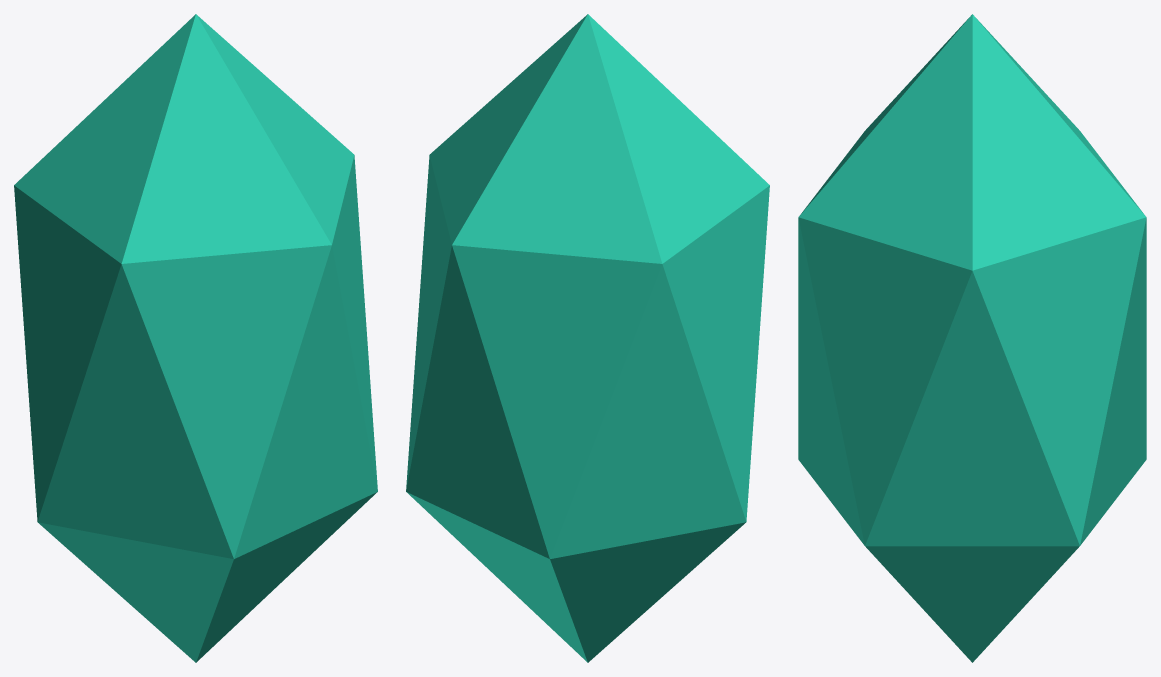
Rendered from mcp-crystal.glb.
3 views of the same model, side by side, from view 1: azimuth 30°, elevation 25°; view 2: azimuth 150°, elevation 25°; view 3: azimuth 270°, elevation 25° (orthographic).
Parts seen in each view (by area): view 1: MCP_Export_Crystal; view 2: MCP_Export_Crystal; view 3: MCP_Export_Crystal.
Boxes of the visible parts, box(x1,y1,x2,y2) form: MCP_Export_Crystal: box(14, 14, 377, 662); MCP_Export_Crystal: box(406, 14, 769, 662); MCP_Export_Crystal: box(798, 14, 1146, 662).
Size of the model in its own units: 1.14 by 2.24 by 1.09.
